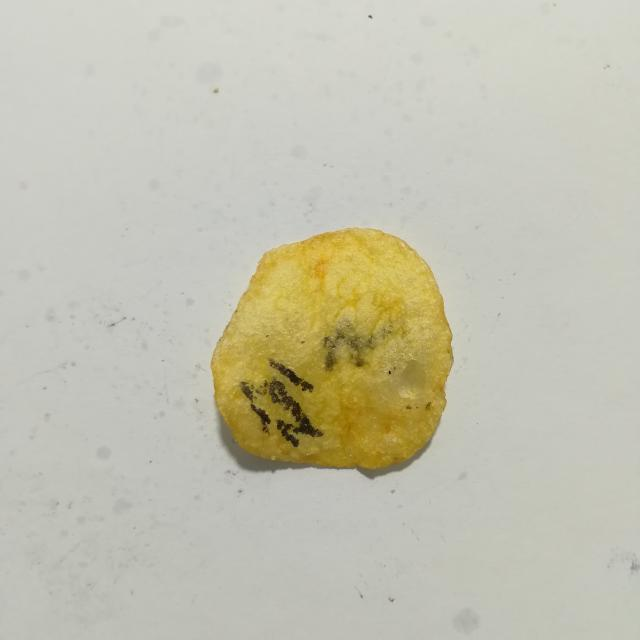chip: (211, 228, 453, 469)
damaged: (268, 378, 323, 447), (269, 359, 313, 392), (251, 403, 271, 426), (240, 382, 254, 403), (255, 389, 262, 395), (263, 389, 268, 395), (264, 380, 268, 387), (251, 384, 255, 390), (264, 427, 268, 431), (259, 385, 264, 388), (389, 371, 391, 375)
semi-damaged: (324, 308, 392, 370)
